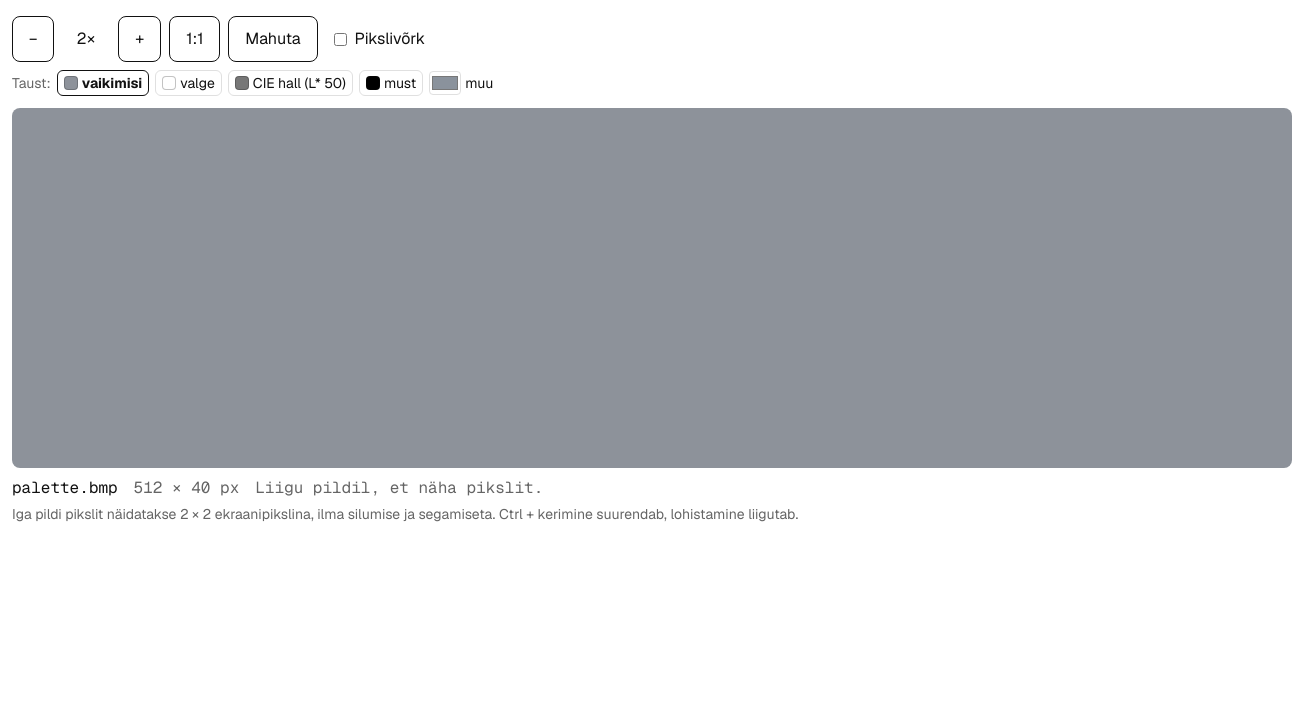
Test: PixelViewer › keeps fitting while the canvas is resized, until the user zooms
Later steps or results of the test are not shown.
Expected: the text "512 × 40 px" is shown, [134,476,239,500]
Expected: the text named "Suurendus" reads "2×", [77,28,96,49]
Click the button named "Suurenda" at (140, 39), box [118,16,161,62]
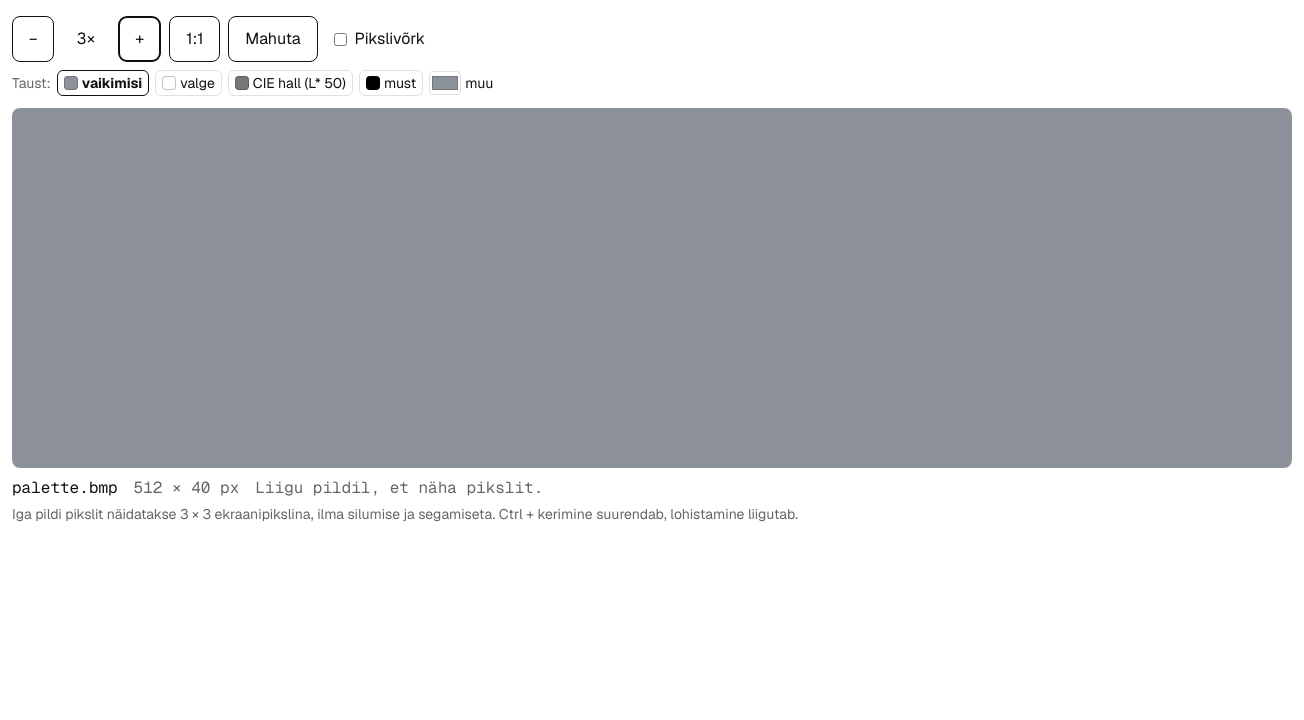
Expected: the text named "Suurendus" reads "3×", [77,28,96,49]
